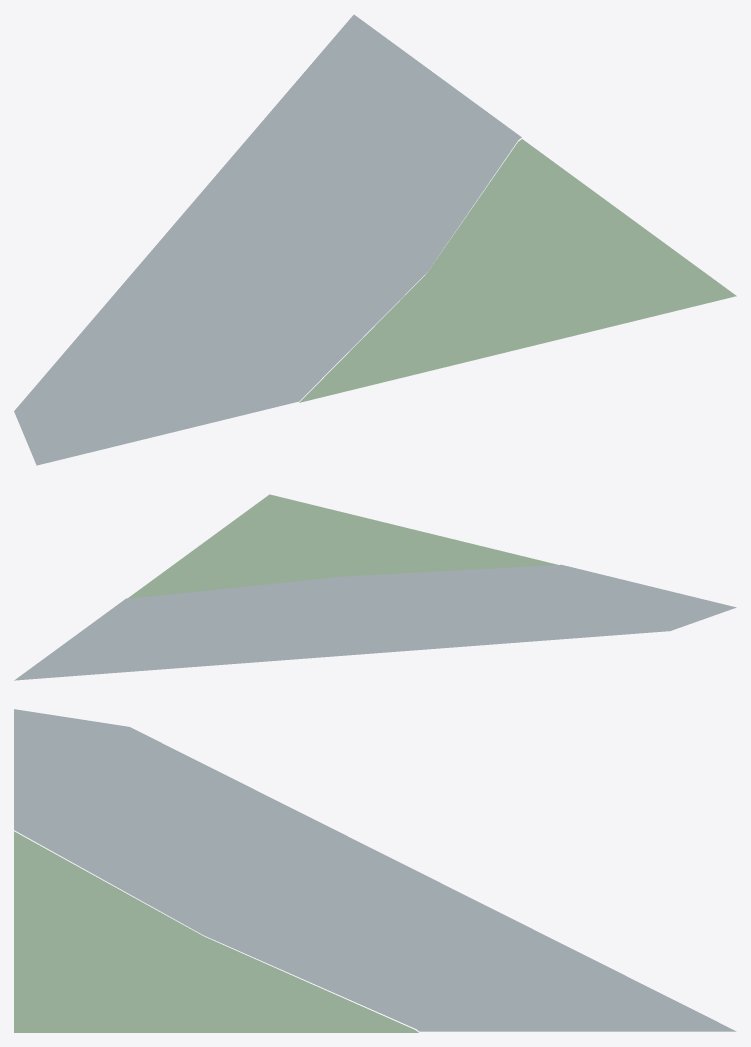
File: 98_89_mid.glb
3 renders of one model, top to bottom at view 1: azimuth 30°, elevation 25°; view 2: azimuth 150°, elevation 25°; view 3: azimuth 270°, elevation 25°, orthographic. The views are drawn at different scales.
Size of the model in its own units: 59.03 by 0.11 by 55.92.
